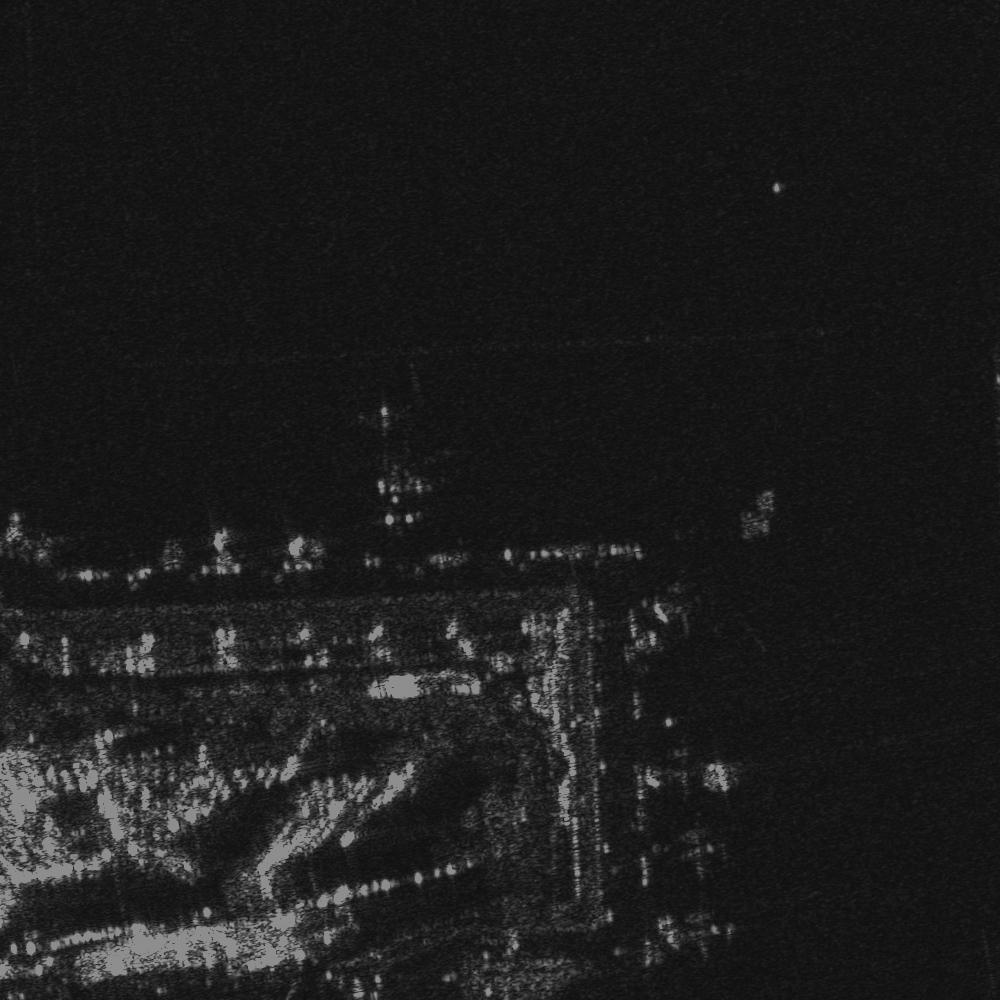A220: (641, 728, 747, 798), (647, 900, 747, 967), (646, 823, 745, 887)
Boeing787: (360, 402, 441, 536)
